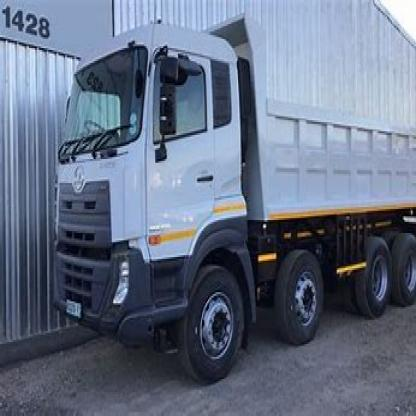dump_truck: (47, 7, 415, 386)
